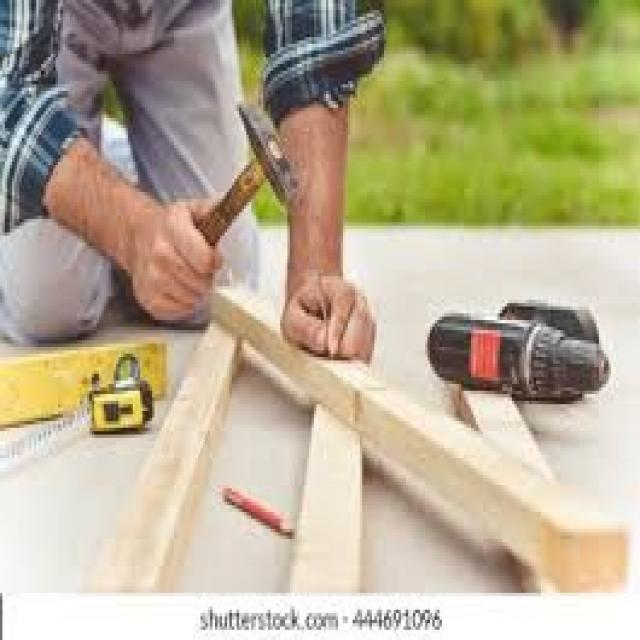hammer: (192, 86, 310, 258)
